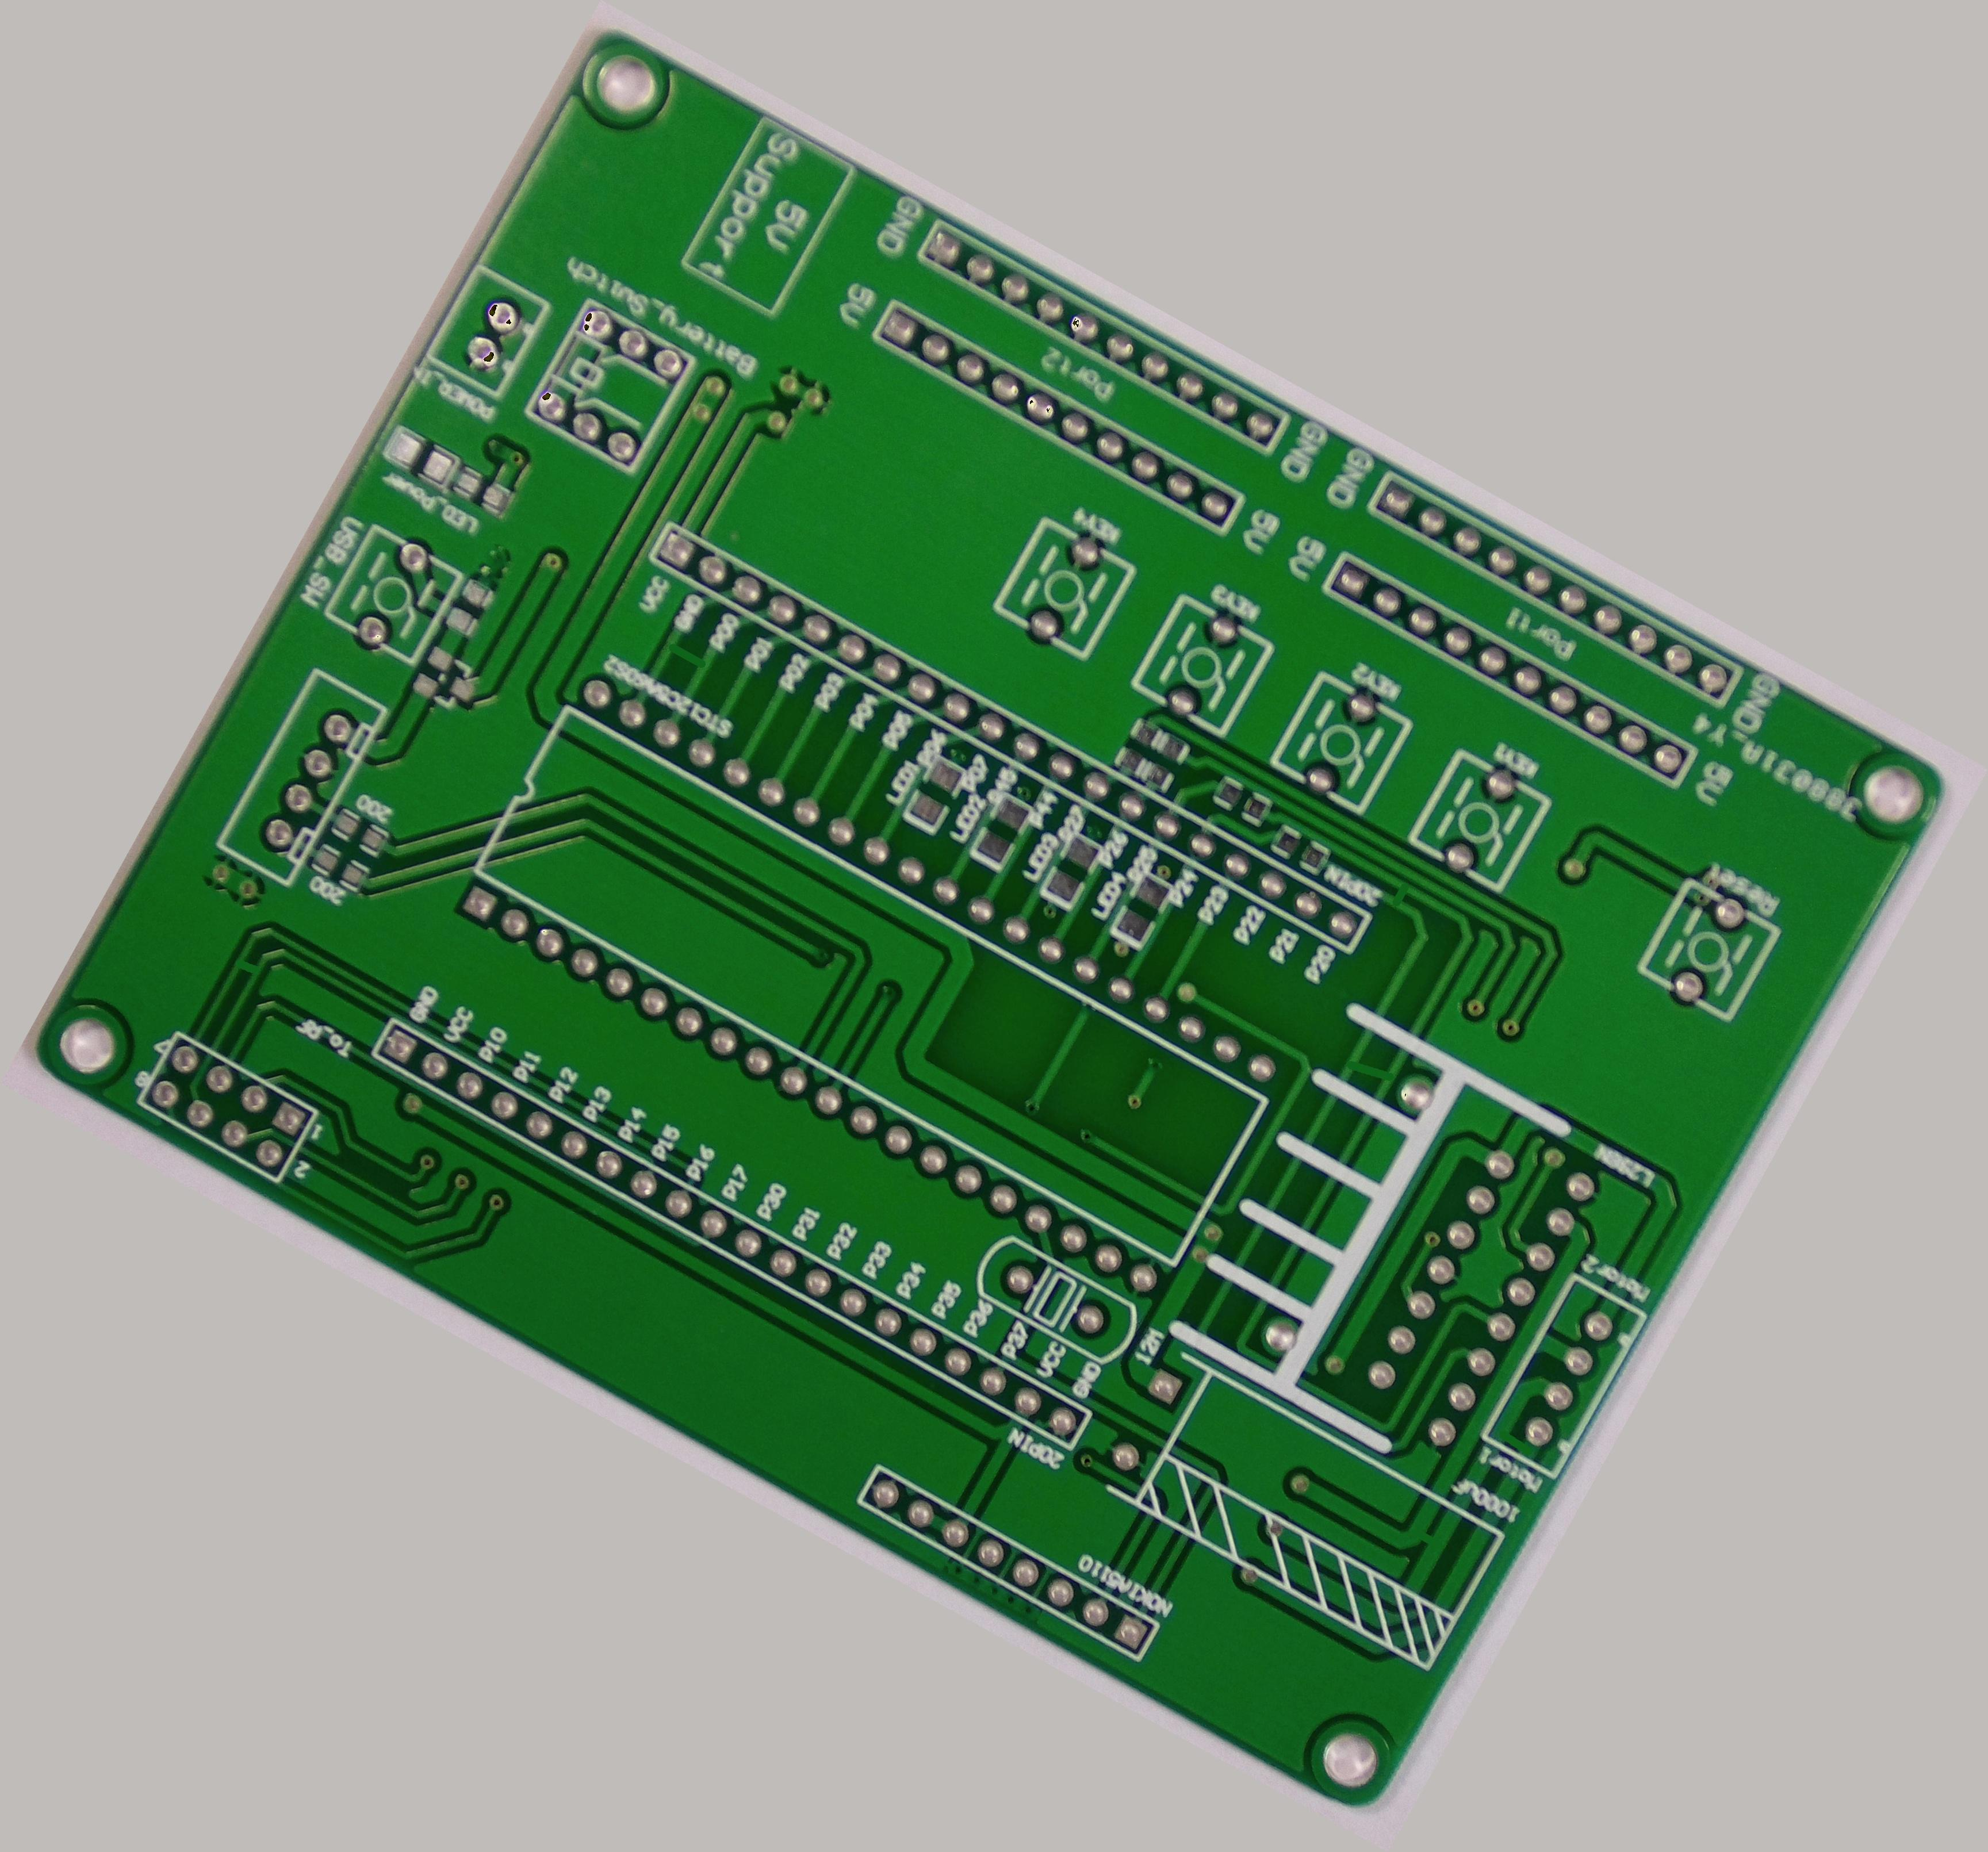short: (1325, 1032, 1407, 1109), (649, 614, 729, 691), (218, 938, 275, 996), (1396, 1513, 1454, 1567), (1372, 869, 1426, 923)
